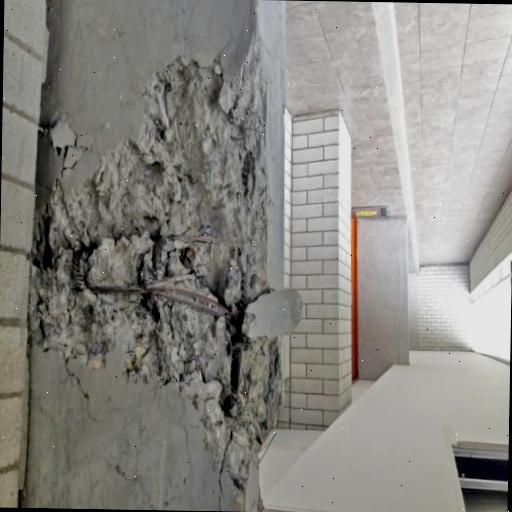spalling: (31, 50, 272, 490)
